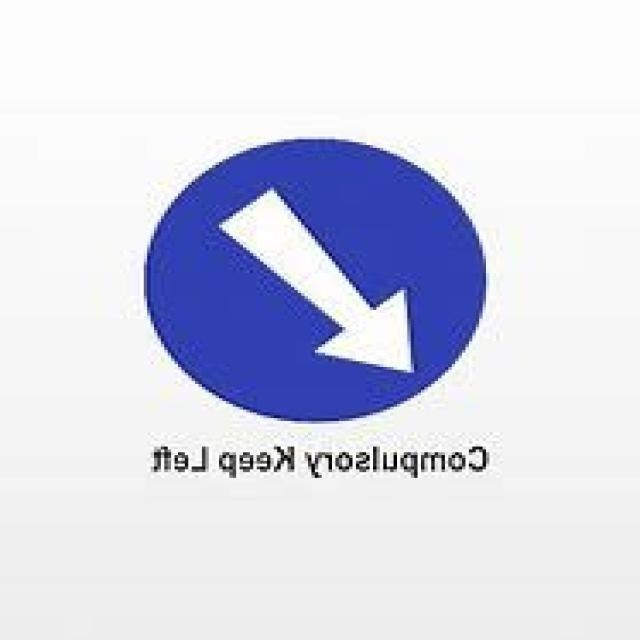R.301e: (133, 134, 493, 422)
